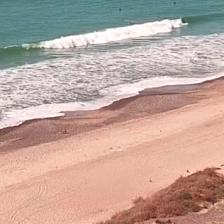surfer: (181, 18, 187, 23), (128, 22, 136, 25), (119, 8, 122, 10), (174, 1, 176, 4)
